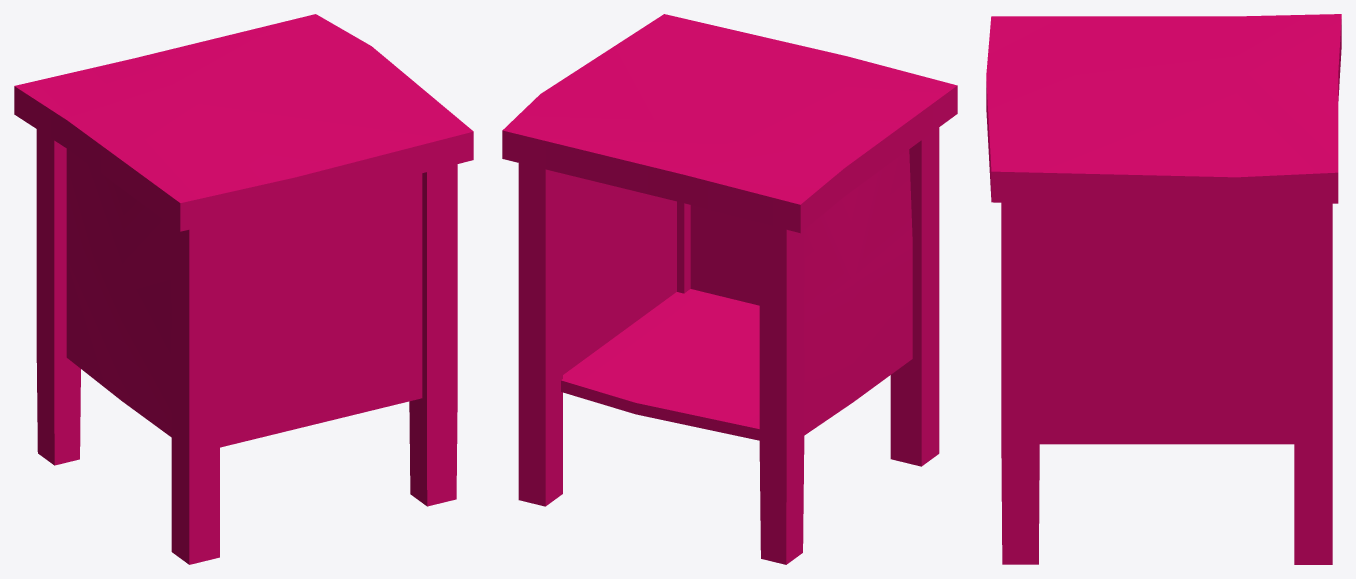
File: NightStand_01_Lod0.fbx
3 views of the same model, side by side, from view 1: azimuth 30°, elevation 25°; view 2: azimuth 150°, elevation 25°; view 3: azimuth 270°, elevation 25° (orthographic). The views are drawn at different scales.
Parts seen in each view (by area): view 1: NightStand_01_Lod0; view 2: NightStand_01_Lod0; view 3: NightStand_01_Lod0.
Boxes of the visible parts, x1=… form: NightStand_01_Lod0: x1=14, y1=14, x2=473, y2=564; NightStand_01_Lod0: x1=502, y1=14, x2=957, y2=564; NightStand_01_Lod0: x1=986, y1=14, x2=1341, y2=564.
Bounding box in the file's own units: 49.74 × 57.15 × 45.75.
